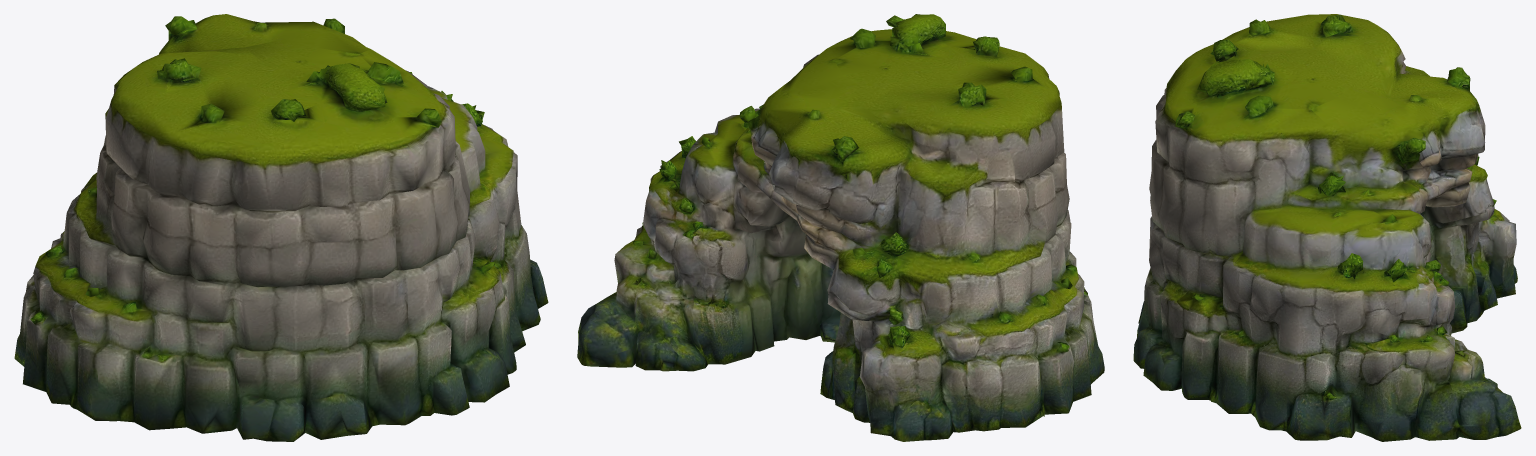
File: env-seacave.glb
3 renders of one model, left to right at view 1: azimuth 30°, elevation 25°; view 2: azimuth 150°, elevation 25°; view 3: azimuth 270°, elevation 25°, orthographic. The views are drawn at different scales.
Parts seen in each view (by area): view 1: tripo_node_9b6f1210-fc05-4923-9902-c09158d866e3; view 2: tripo_node_9b6f1210-fc05-4923-9902-c09158d866e3; view 3: tripo_node_9b6f1210-fc05-4923-9902-c09158d866e3.
Part boxes in pixels (x1,y1,x2,y2): tripo_node_9b6f1210-fc05-4923-9902-c09158d866e3: [14, 14, 548, 441]; tripo_node_9b6f1210-fc05-4923-9902-c09158d866e3: [577, 14, 1104, 441]; tripo_node_9b6f1210-fc05-4923-9902-c09158d866e3: [1133, 14, 1521, 441].
Size of the model in its own units: 0.9988 by 0.6253 by 0.7881.
Materials: 1 (1 with a texture image).
